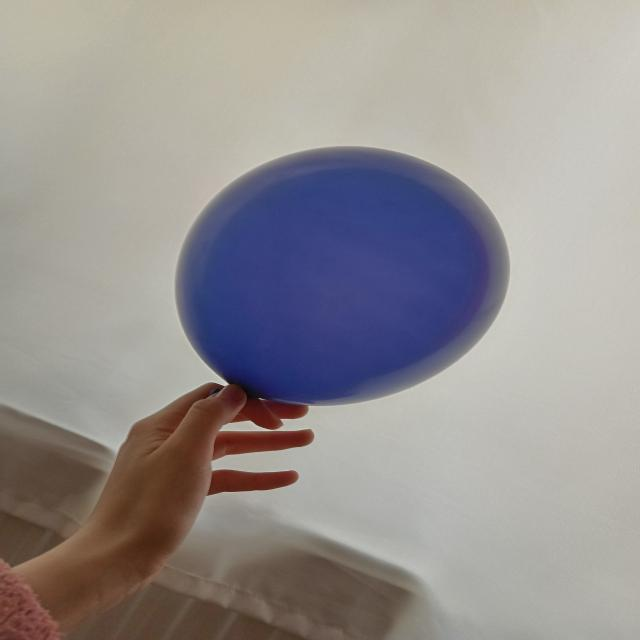blue: (176, 147, 511, 407)
